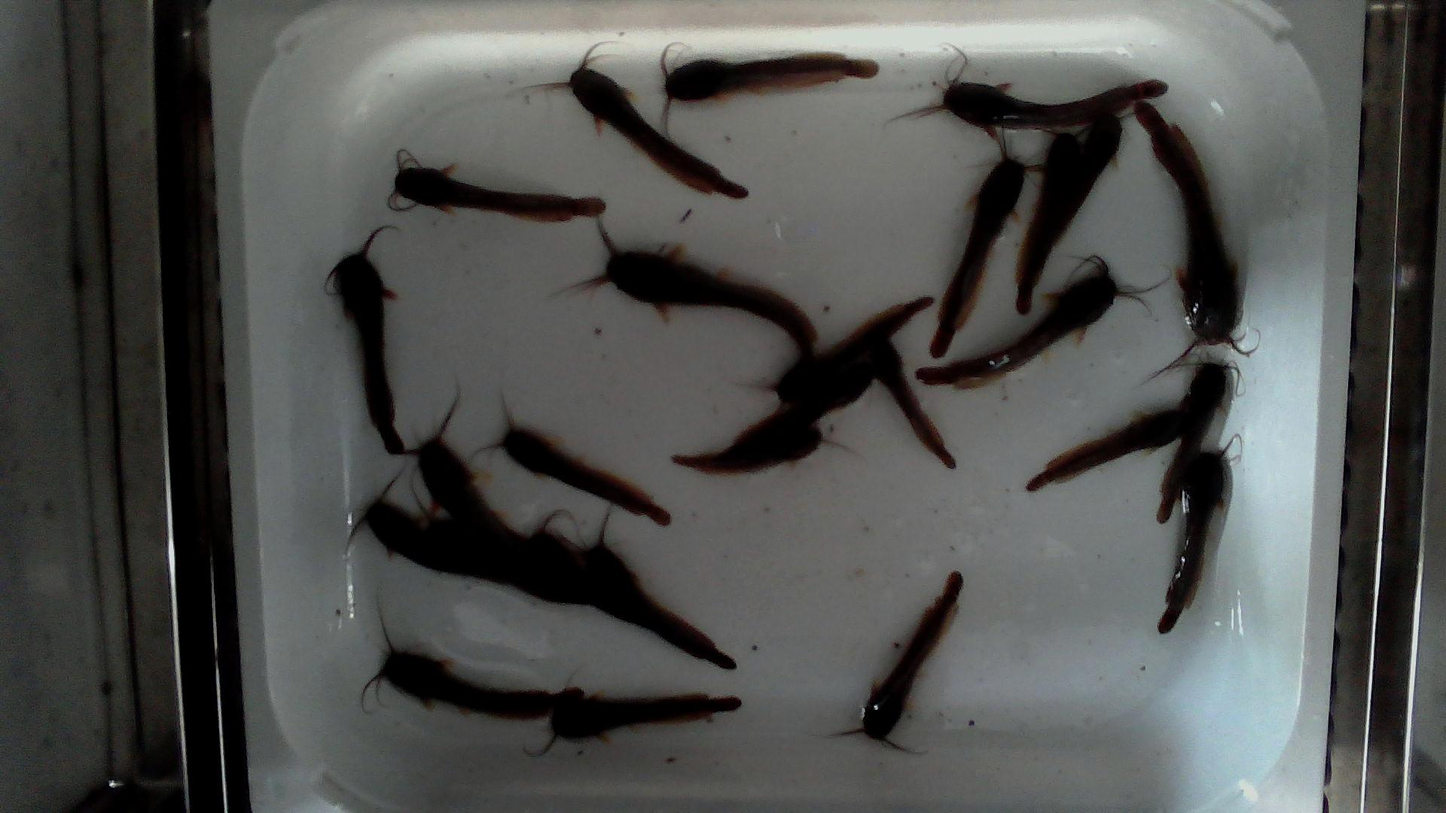lele: (388, 405, 590, 605), (917, 258, 1119, 384), (1136, 103, 1239, 344), (569, 62, 747, 198), (604, 249, 816, 361), (586, 514, 736, 670), (842, 573, 962, 752), (330, 226, 416, 455), (932, 159, 1024, 356), (349, 477, 507, 586), (502, 422, 670, 524), (777, 296, 934, 404), (718, 360, 874, 459), (380, 650, 591, 717), (1016, 126, 1090, 315), (1025, 410, 1188, 492), (523, 530, 655, 630), (534, 694, 741, 756), (1158, 452, 1229, 632), (942, 80, 1167, 132), (1156, 360, 1224, 524), (869, 336, 954, 467), (395, 168, 605, 221), (1044, 113, 1123, 252), (665, 54, 878, 101), (425, 519, 535, 595), (672, 427, 824, 474)
